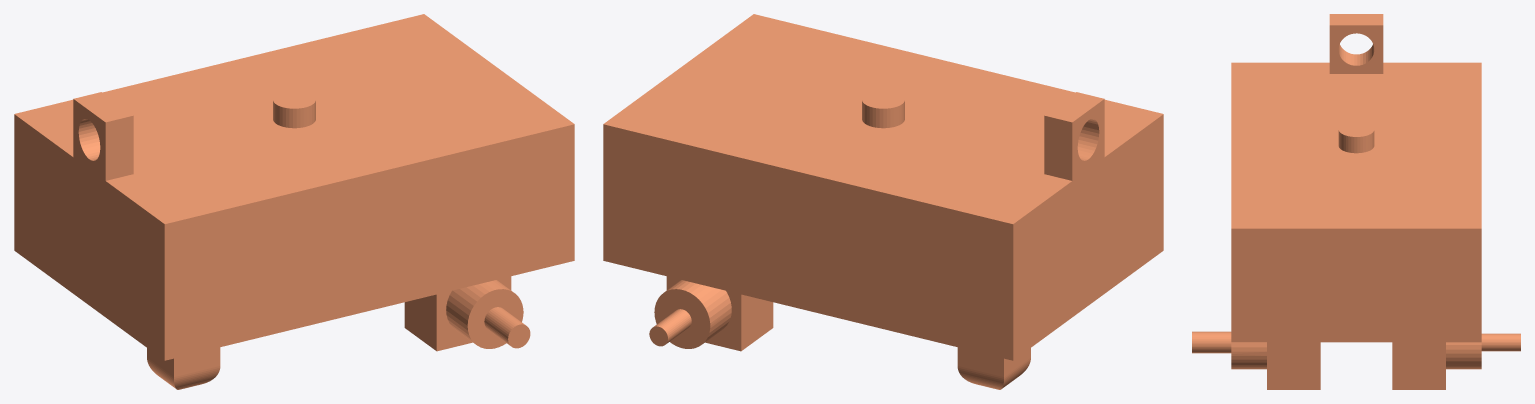
File: bot_Base.dae
3 renders of one model, left to right at view 1: azimuth 30°, elevation 25°; view 2: azimuth 150°, elevation 25°; view 3: azimuth 270°, elevation 25°, orthographic. The views are drawn at different scales.
Visible parts, largest first — view 1: Base; view 2: Base; view 3: Base.
Boxes of the visible parts, x1=… form: Base: x1=14, y1=14, x2=574, y2=389; Base: x1=603, y1=14, x2=1163, y2=389; Base: x1=1192, y1=14, x2=1520, y2=389.
Bounding box in the file's own units: 2.2 × 1.84 × 1.52.
